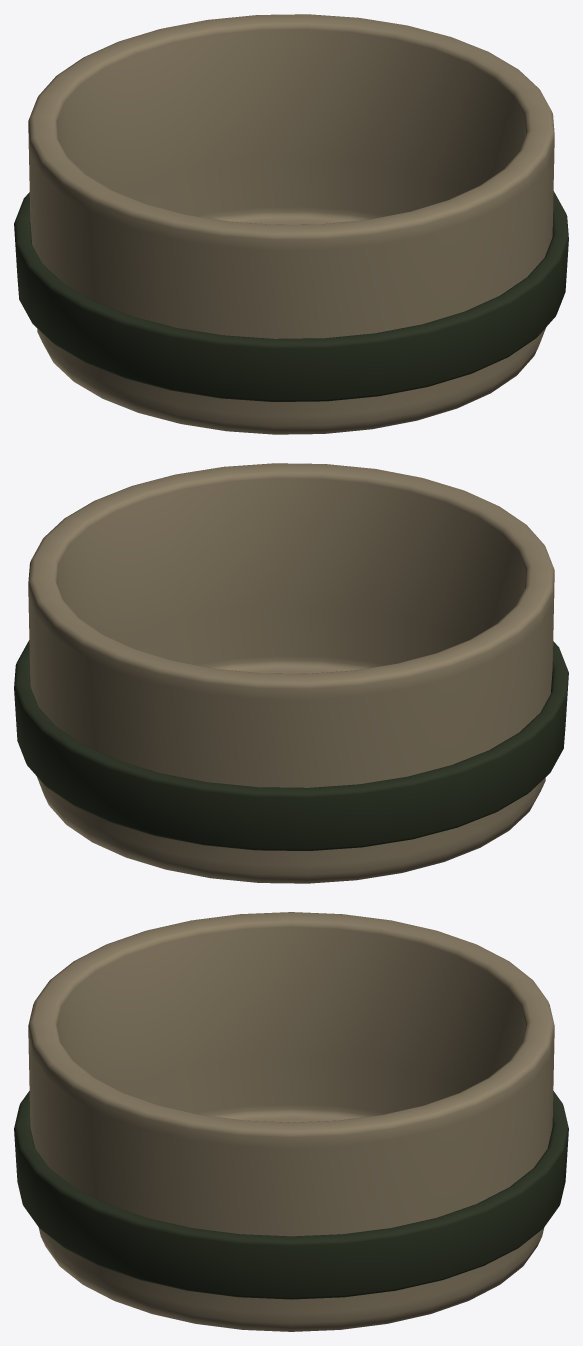
File: BarrelSmallOpen_v01.glb
The picture shows the model from 3 angles, top to bottom: view 1: azimuth 30°, elevation 25°; view 2: azimuth 150°, elevation 25°; view 3: azimuth 270°, elevation 25°; orthographic projection.
Visible parts, largest first — view 1: SM_BarrelSmallOpen; view 2: SM_BarrelSmallOpen; view 3: SM_BarrelSmallOpen.
Part boxes in pixels (x1=…): SM_BarrelSmallOpen: x1=14, y1=14, x2=568, y2=434; SM_BarrelSmallOpen: x1=14, y1=463, x2=568, y2=883; SM_BarrelSmallOpen: x1=14, y1=912, x2=568, y2=1331.
Size of the model in its own units: 1 by 0.4179 by 1.
